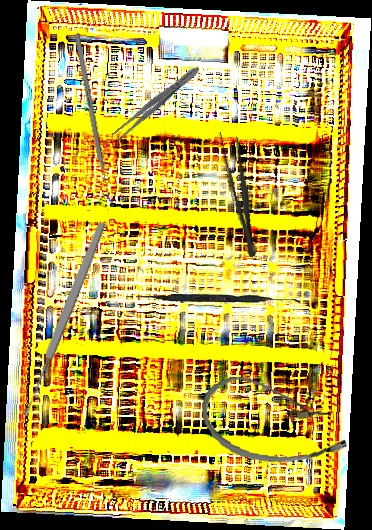Cannula: (197, 372, 353, 470)
Dressing Forceps: (108, 62, 204, 145), (215, 128, 264, 259)
Pusher: (73, 33, 113, 205)
Spatula Surgical: (136, 294, 300, 303)
Surgical Spoon: (19, 220, 108, 418)
